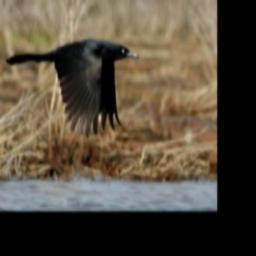Crow: (5, 38, 141, 138)
